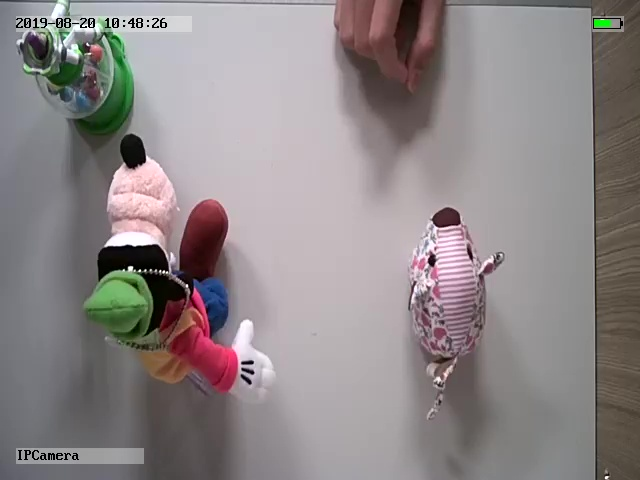buzz: (11, 2, 137, 128)
goofy: (82, 132, 276, 406)
pig: (402, 203, 507, 424)
